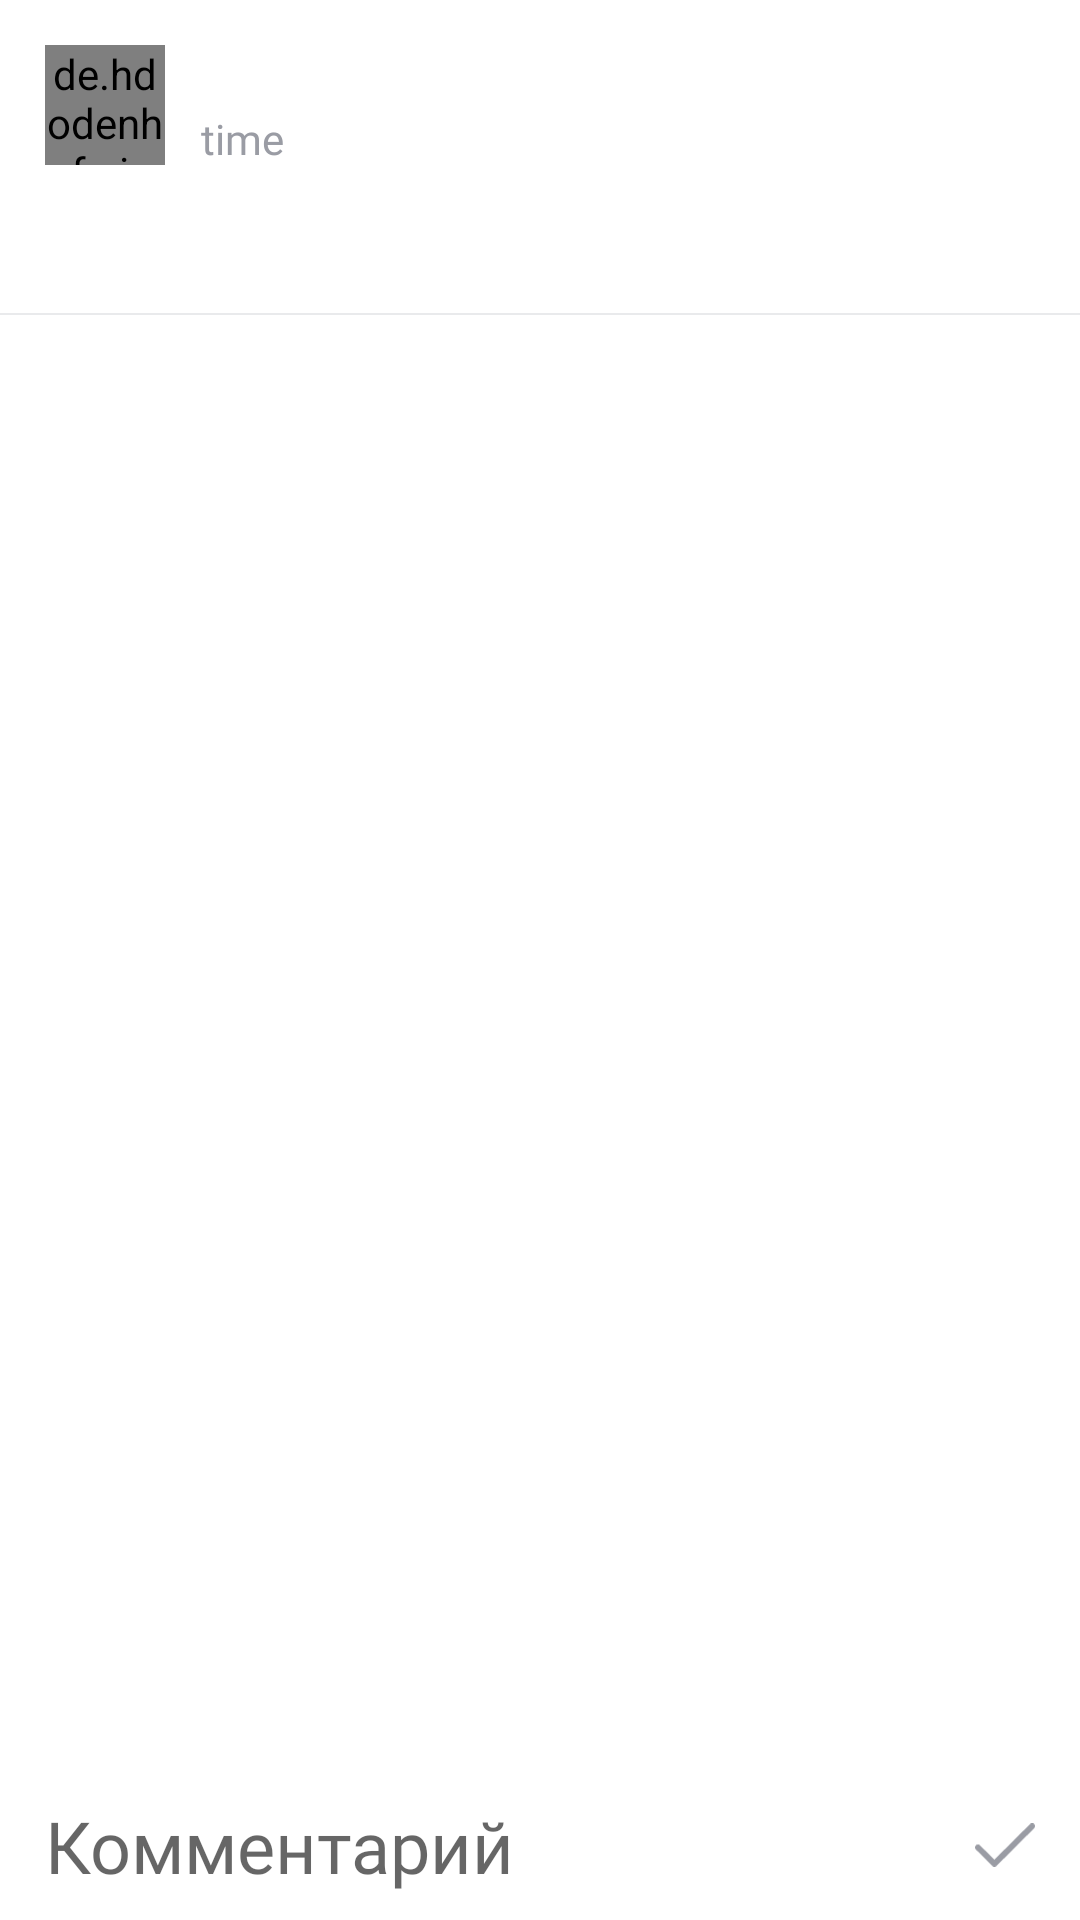

Where icons sit on this 1080 × 1920 app screen, as (x1=x1, y1=y1, x2=x2, y2=y2):
accept: (x1=975, y1=1823, x2=1035, y2=1867)
